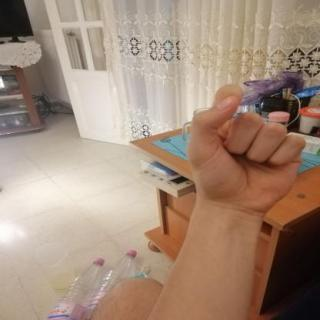FAA: (178, 78, 316, 222)
